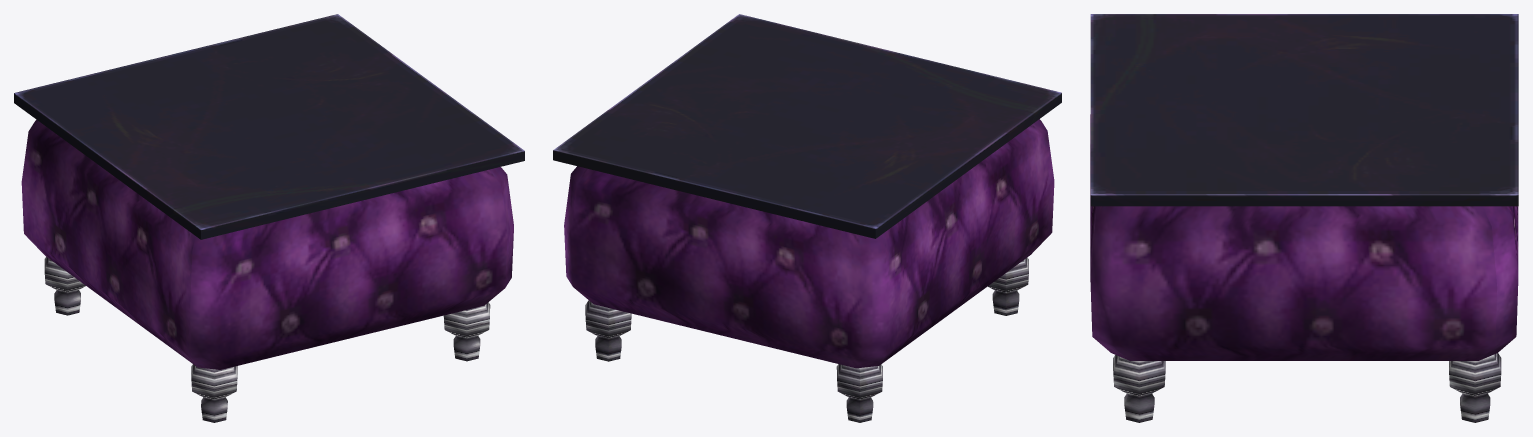
File: furni_0200720.FBX
3 views of the same model, side by side, from view 1: azimuth 30°, elevation 25°; view 2: azimuth 150°, elevation 25°; view 3: azimuth 270°, elevation 25° (orthographic). The views are drawn at different scales.
Visible parts, largest first — view 1: furni_0200720; view 2: furni_0200720; view 3: furni_0200720.
Part boxes in pixels (x1=…): furni_0200720: x1=14, y1=14, x2=524, y2=422; furni_0200720: x1=553, y1=14, x2=1061, y2=422; furni_0200720: x1=1090, y1=14, x2=1518, y2=422.
Size of the model in its own units: 80.42 by 49.91 by 80.04.
Materials: 1 (1 with a texture image).
